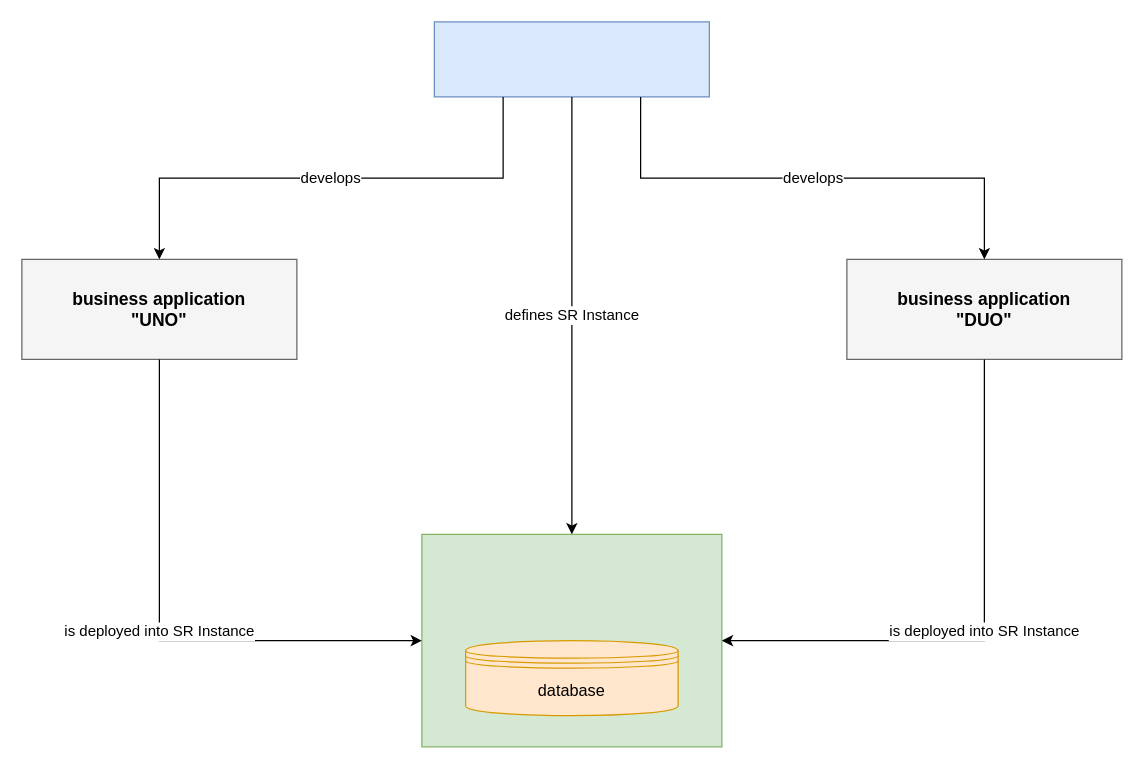
This 1144x769 diagram has some shape labels left out. The shapes that lost their labels are listed below. From the top down, each one's box as (x1, y1, x2, y2) in pixels, then its label:
(433, 21, 709, 97): SR Parent POM
(421, 533, 722, 747): SR Instance
